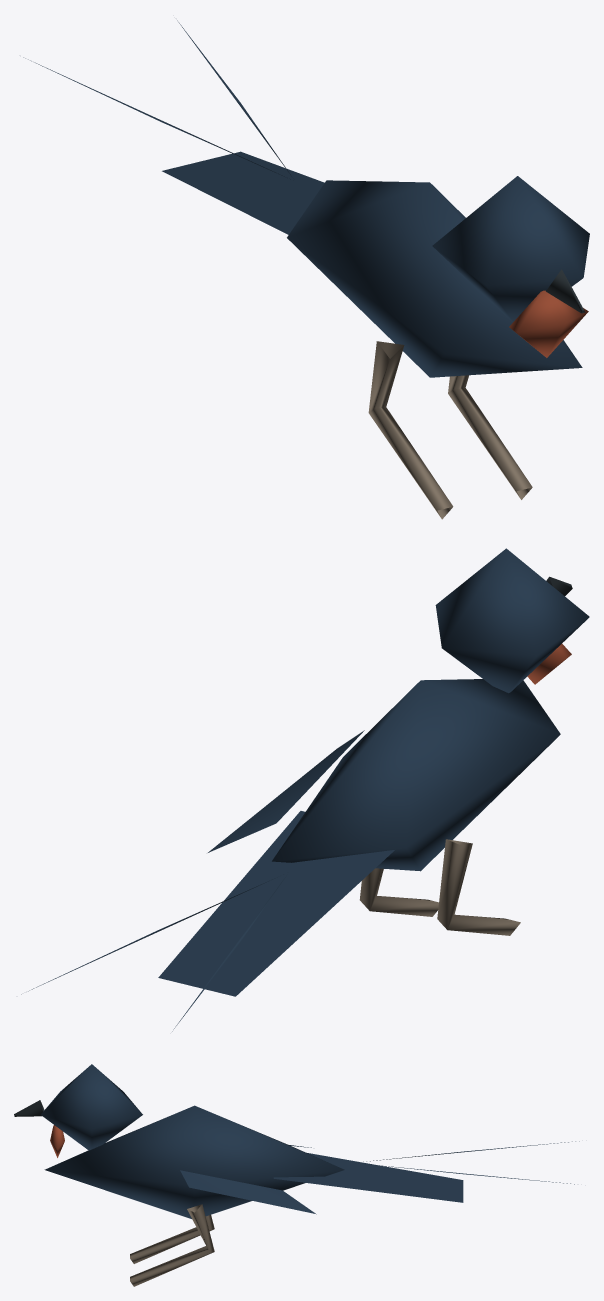
Rendered from swallow-1.glb.
3 views of the same model, one above another, from view 1: azimuth 30°, elevation 25°; view 2: azimuth 150°, elevation 25°; view 3: azimuth 270°, elevation 25° (orthographic). The views are drawn at different scales.
Visible parts, largest first — view 1: swallow; view 2: swallow; view 3: swallow.
Boxes of the visible parts, x1,y1,x2,y2 form: swallow: (23,20,589,519); swallow: (21,548,589,1031); swallow: (14,1064,579,1286).
Size of the model in its own units: 0.0985 by 0.1477 by 0.3643.
